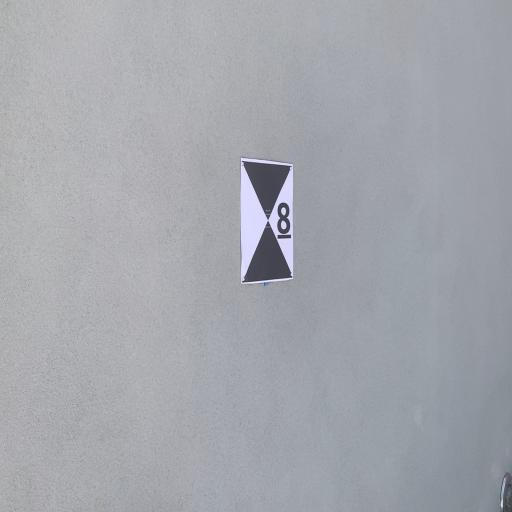target8: (240, 158, 293, 282)
